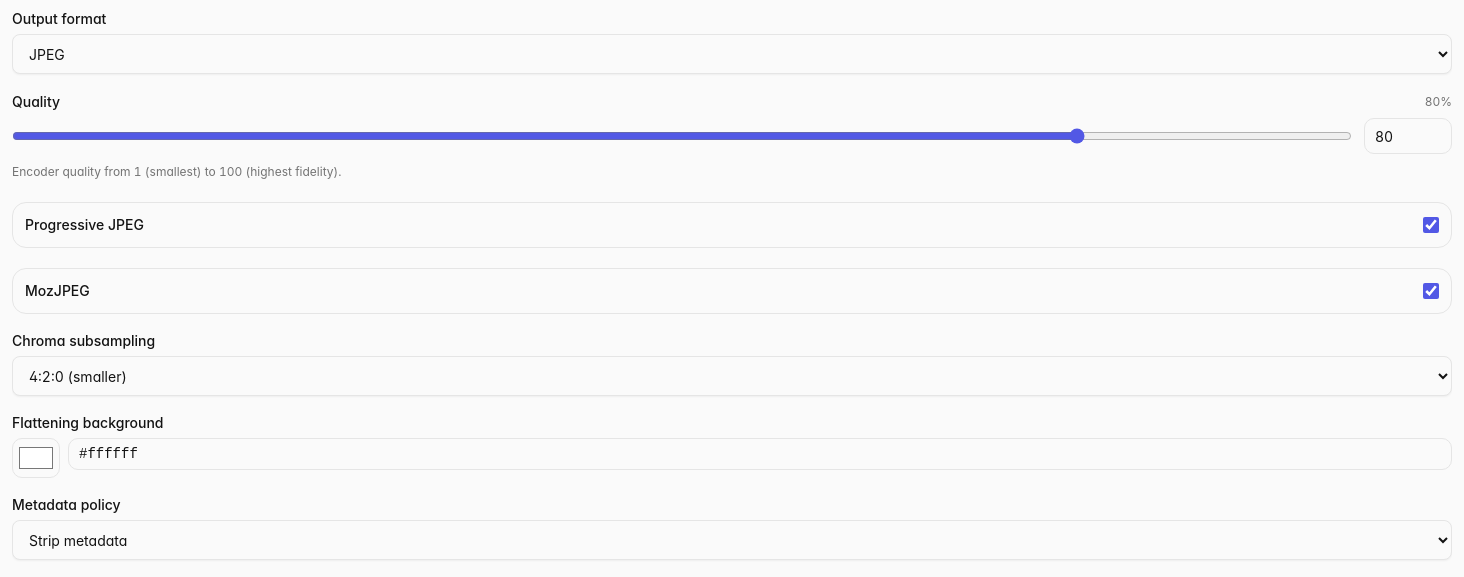
Scenario: contextual encoder controls › shows only controls used by the compress encoder format
Check: the slider labelled "Quality" is shown, box [12, 118, 1352, 154]
Check: the checkbox labelled "Progressive JPEG" is shown, box [1423, 217, 1439, 233]
Select "PNG" in the dropdown labelled "Output format": (732, 54) [12, 34, 1452, 74]
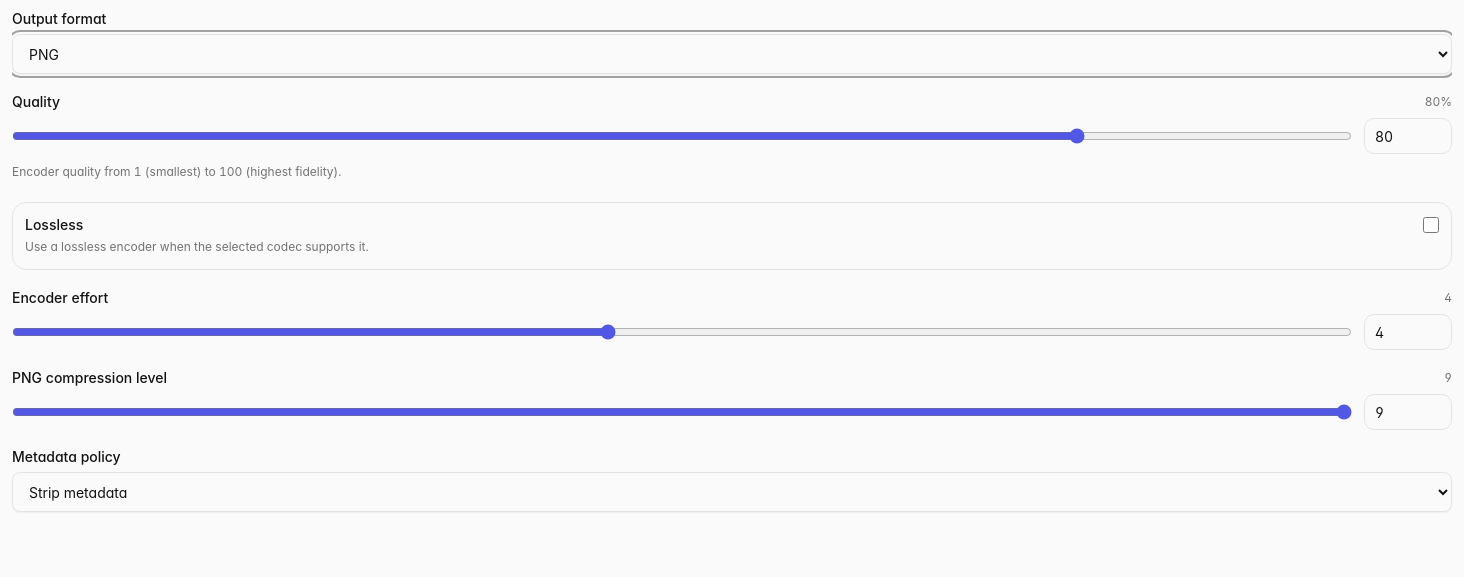
Check: the checkbox is shown, box [1423, 217, 1439, 233]
Check: the slider labelled "Encoder effort" is shown, box [12, 314, 1352, 350]
Check: the slider labelled "PNG compression level" is shown, box [12, 394, 1352, 430]
Select "GIF" in the dropdown labelled "Output format": (732, 54) [12, 34, 1452, 74]
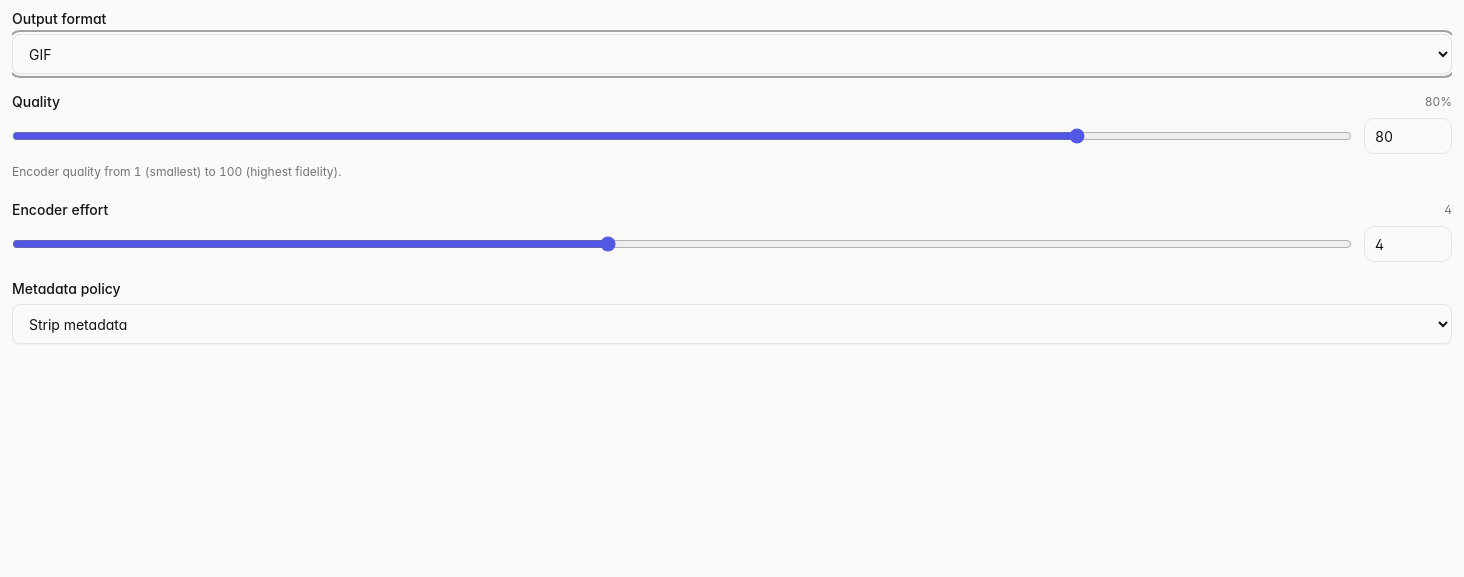
Check: the slider labelled "Encoder effort" is shown, box [12, 226, 1352, 262]
Check: the text "Lossless" is gone
Check: the label labelled "PNG compression level" is gone
